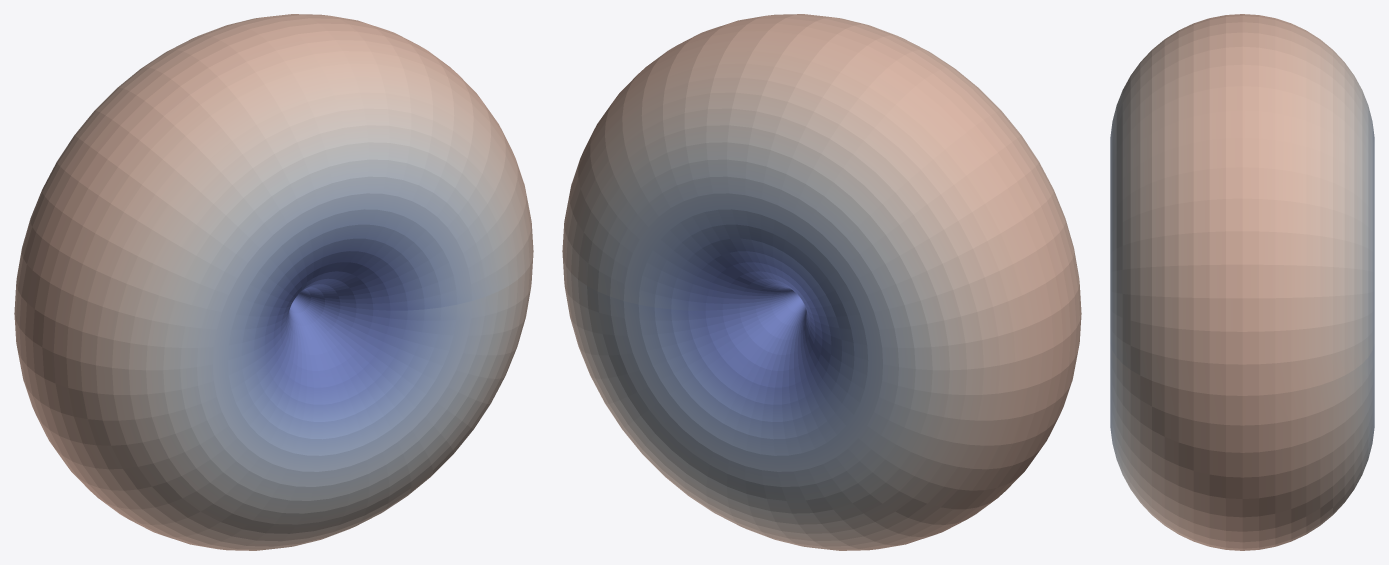
3 renders of one model, left to right at view 1: azimuth 30°, elevation 25°; view 2: azimuth 150°, elevation 25°; view 3: azimuth 270°, elevation 25°, orthographic. The views are drawn at different scales.
Parts seen in each view (by area): view 1: world; view 2: world; view 3: world.
Part boxes in pixels (left/top/right/bottom): world: left=14, top=14, right=533, bottom=550; world: left=562, top=14, right=1081, bottom=550; world: left=1110, top=14, right=1374, bottom=550.
Size of the model in its own units: 19.73 by 19.69 by 9.71.
